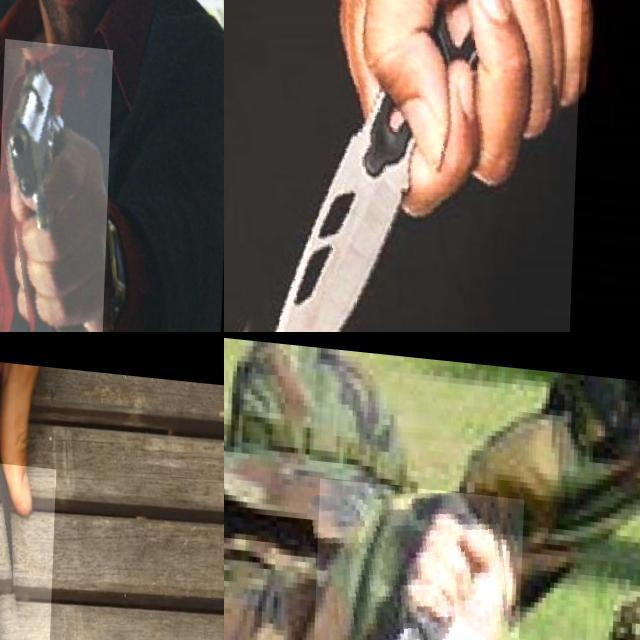-: (224, 0, 586, 332), (312, 472, 525, 640), (0, 437, 73, 640), (0, 450, 71, 640)
gun-knife-thesis - v11 Yolov5 augmented: (0, 29, 115, 332), (0, 153, 74, 332)
